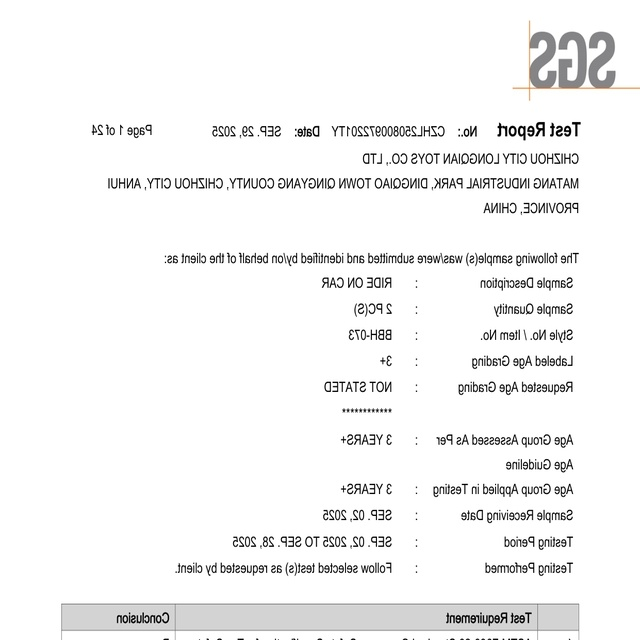sgs: (531, 31, 615, 88)
